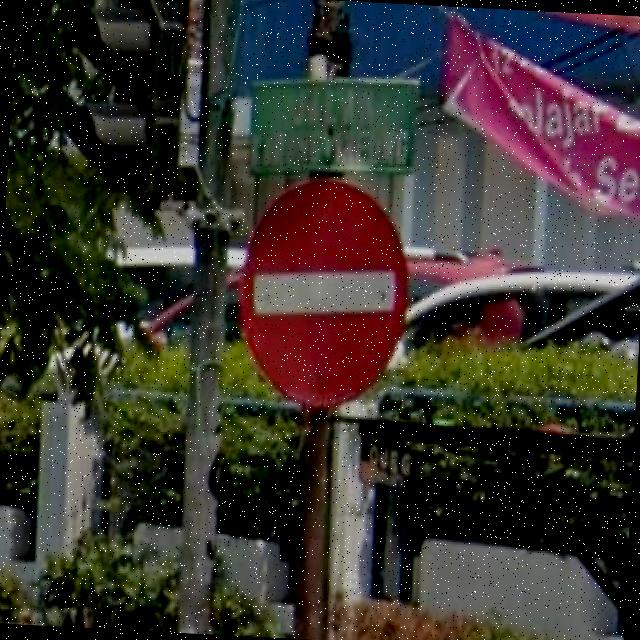Zakaz wjazdu: (237, 172, 416, 420)
